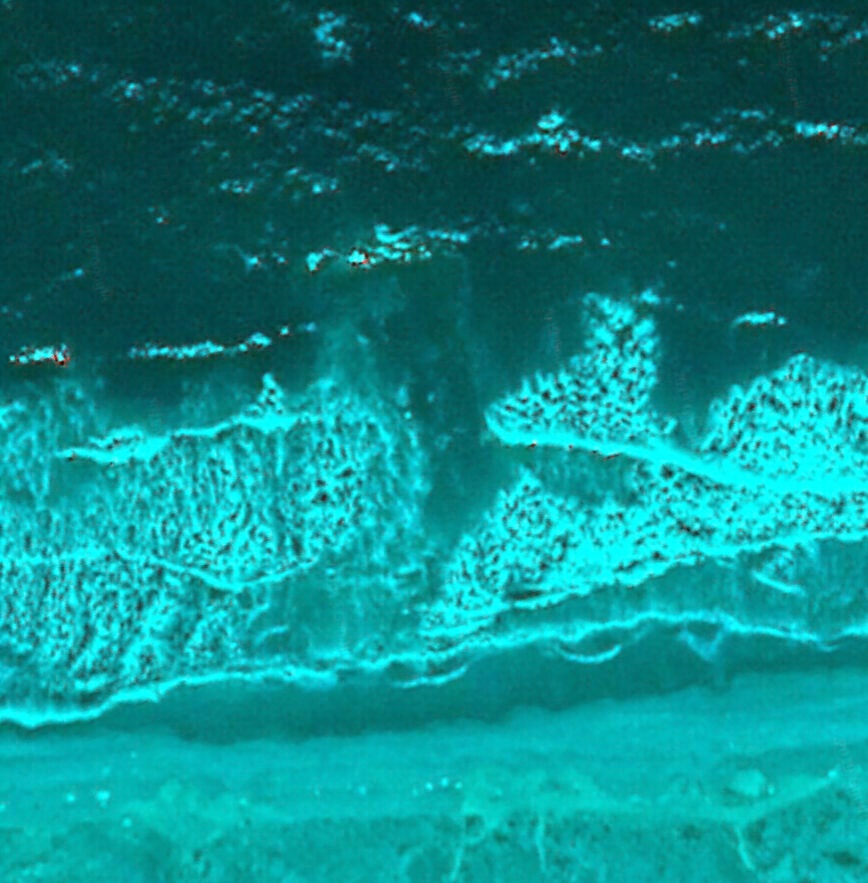rip_current: (231, 244, 608, 588)
